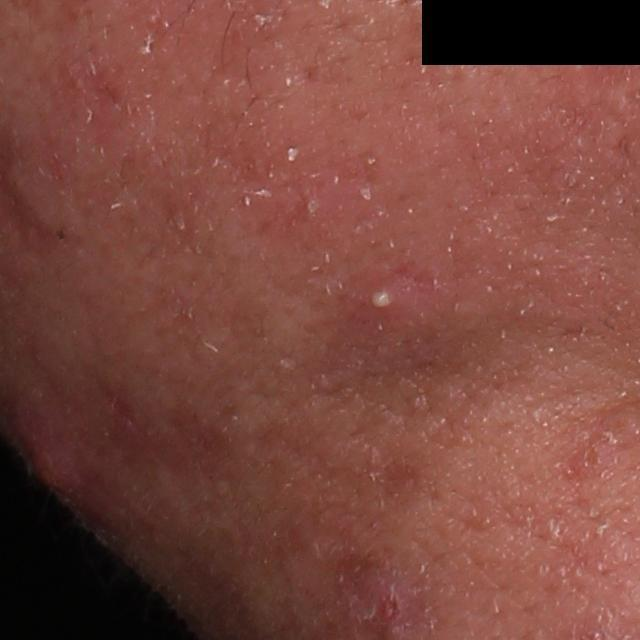pustule: (364, 281, 409, 313)
